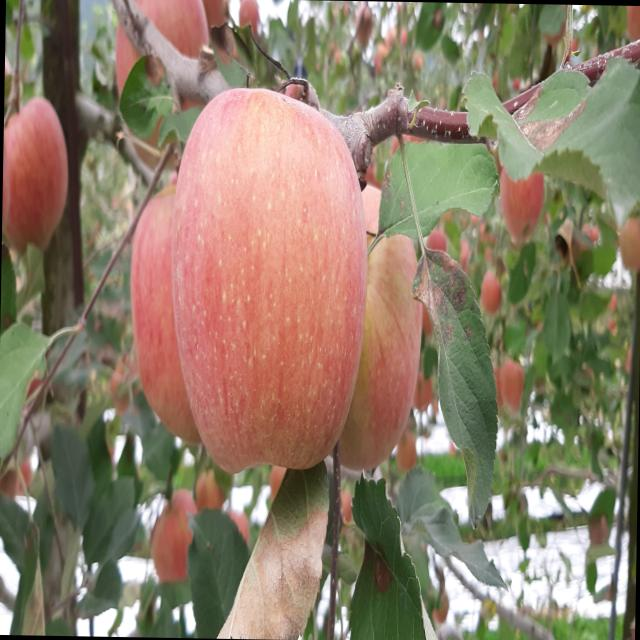fresh: (163, 78, 377, 489)
